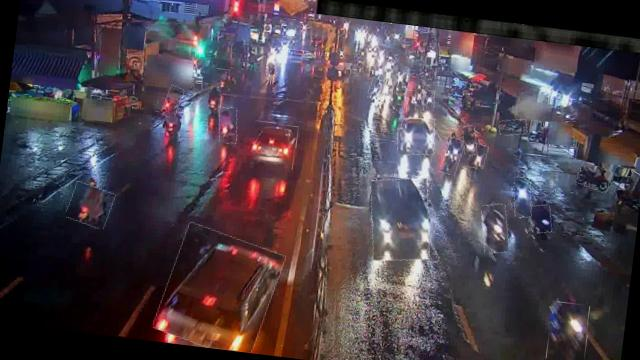Bike: (545, 300, 590, 360), (66, 182, 114, 228), (478, 202, 512, 255), (509, 175, 534, 218), (576, 163, 613, 192), (441, 136, 464, 176), (217, 106, 240, 144), (528, 204, 554, 234), (162, 84, 183, 118), (163, 109, 182, 142), (459, 124, 478, 156), (497, 117, 527, 137), (467, 142, 487, 170), (367, 76, 384, 100), (208, 86, 222, 114), (213, 68, 230, 91), (405, 89, 420, 112), (413, 85, 425, 110), (394, 86, 406, 108), (265, 58, 278, 76), (426, 90, 436, 112)
Car: (154, 224, 282, 354), (364, 173, 436, 264), (249, 121, 297, 170), (394, 116, 436, 157)
